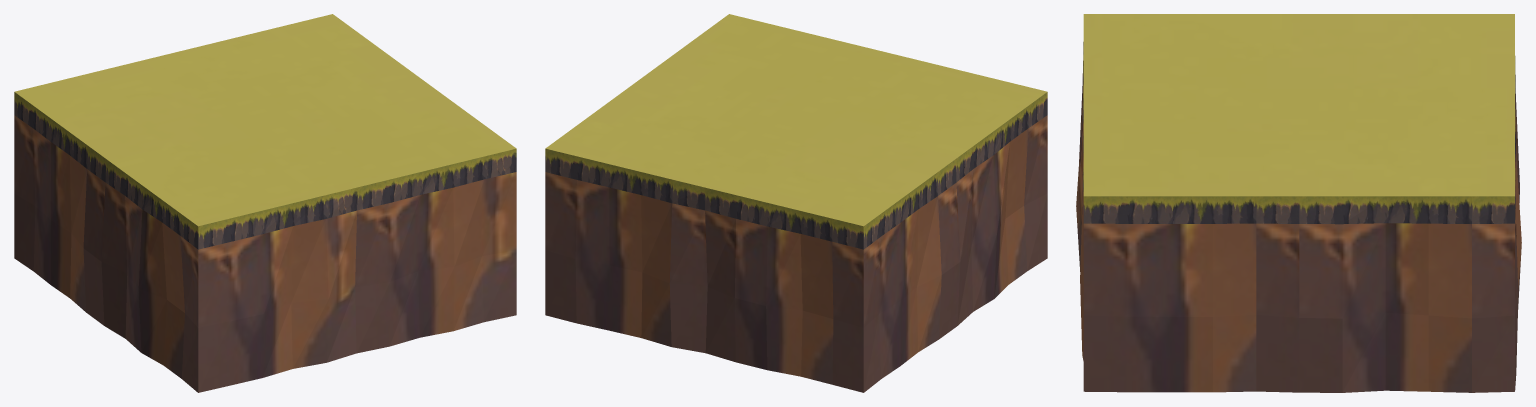
The model's file is SM_RC_Terrain_Plateau_16x16x8.gltf.
3 views of the same model, side by side, from view 1: azimuth 30°, elevation 25°; view 2: azimuth 150°, elevation 25°; view 3: azimuth 270°, elevation 25° (orthographic). The views are drawn at different scales.
Visible parts, largest first — view 1: SM_RC_Terrain_Plateau_16x16x8; view 2: SM_RC_Terrain_Plateau_16x16x8; view 3: SM_RC_Terrain_Plateau_16x16x8.
Boxes of the visible parts, left/top/right/bottom form: SM_RC_Terrain_Plateau_16x16x8: left=14, top=14, right=516, bottom=392; SM_RC_Terrain_Plateau_16x16x8: left=545, top=14, right=1047, bottom=392; SM_RC_Terrain_Plateau_16x16x8: left=1076, top=14, right=1521, bottom=392.
Size of the model in its own units: 16.51 by 8 by 16.53.
Materials: 1 (1 with a texture image).
